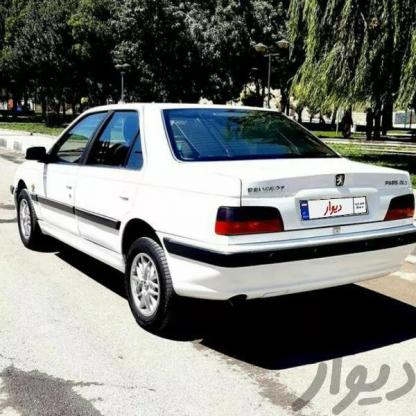Car: (0, 102, 416, 324)
